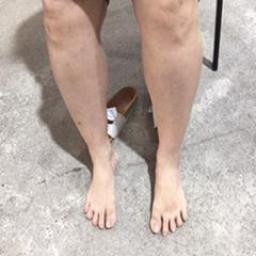Dorsal View -Both Feet-: (74, 132, 194, 238)
